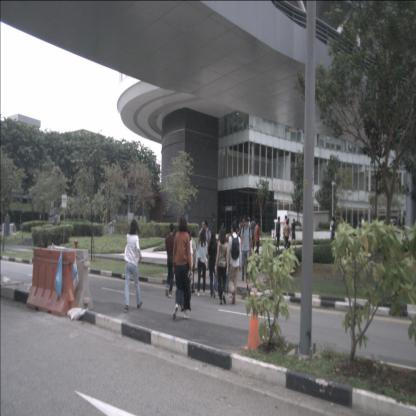barrier: (26, 247, 78, 317), (46, 245, 95, 310)
cone: (242, 290, 262, 352)
